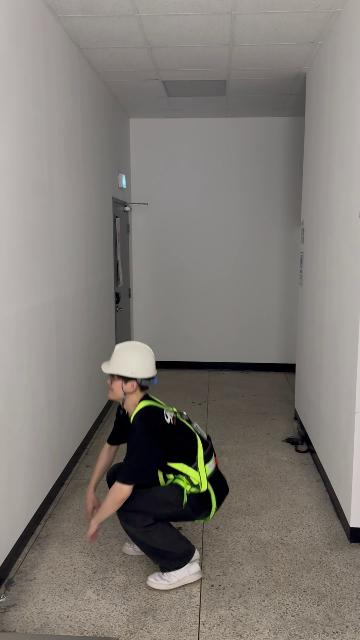helmet_worn: (100, 340, 159, 381)
shoe_not_worn: (146, 556, 203, 590), (122, 540, 146, 556)
vest_worn: (126, 398, 223, 518)
